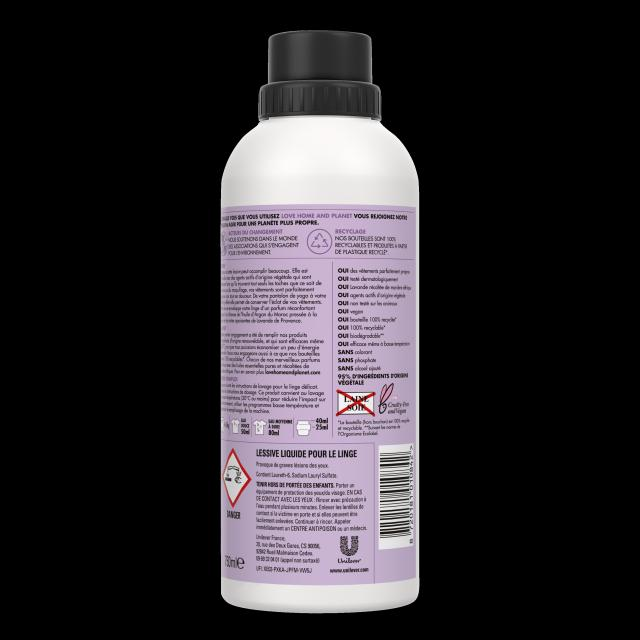GHS_Symbol_CORROSION: (222, 448, 251, 508)
